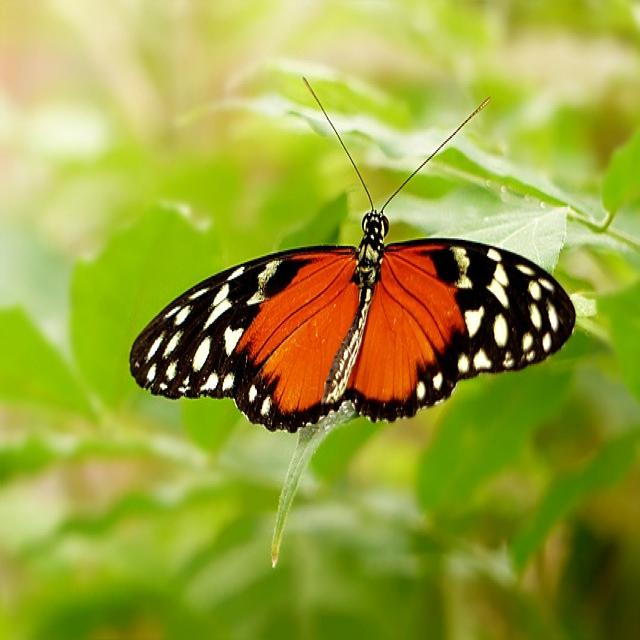butterfly: (129, 210, 576, 435)
